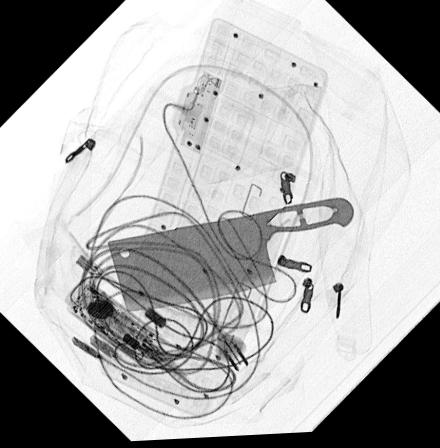Knife: (105, 200, 352, 313)
